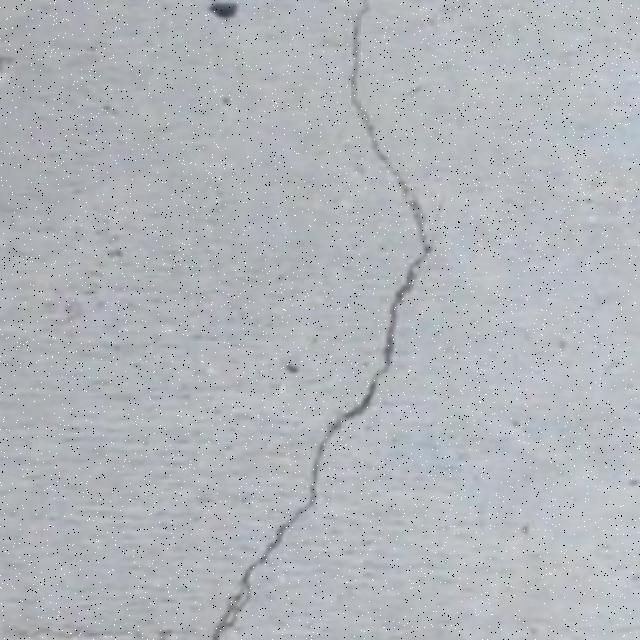moderate crack: (385, 224, 432, 357)
severe crack: (202, 12, 432, 637), (316, 338, 403, 477), (345, 4, 404, 189)
